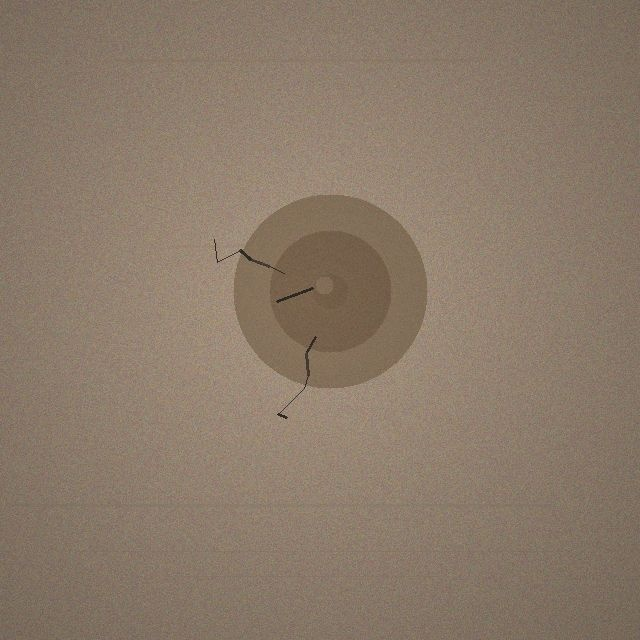crack: (233, 194, 427, 388)
